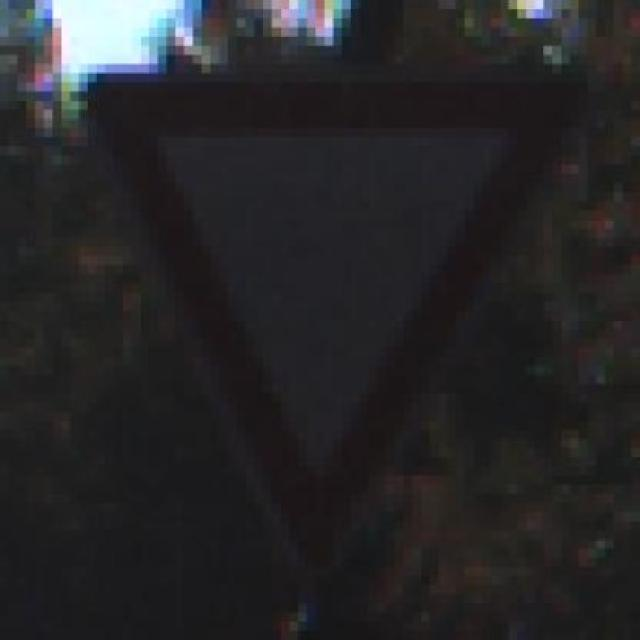Give Way: (70, 36, 561, 567)
